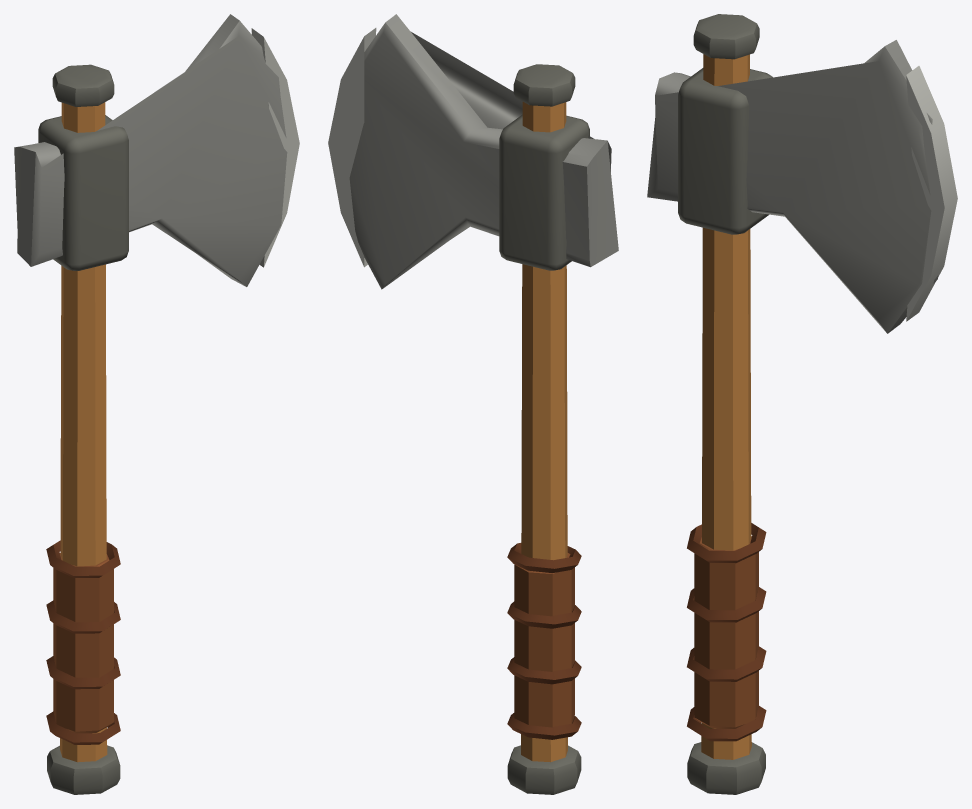
The model's file is StoneAxe.fbx.
3 renders of one model, left to right at view 1: azimuth 30°, elevation 25°; view 2: azimuth 150°, elevation 25°; view 3: azimuth 330°, elevation 25°, orthographic. The views are drawn at different scales.
Parts seen in each view (by area): view 1: StoneAxe; view 2: StoneAxe; view 3: StoneAxe.
Boxes of the visible parts, bbox=[...] form: StoneAxe: bbox=[14, 14, 299, 794]; StoneAxe: bbox=[328, 14, 618, 794]; StoneAxe: bbox=[647, 14, 957, 794].
Bounding box in the file's own units: 1.29 × 3.28 × 0.3129.
Materials: 1 (1 with a texture image).
